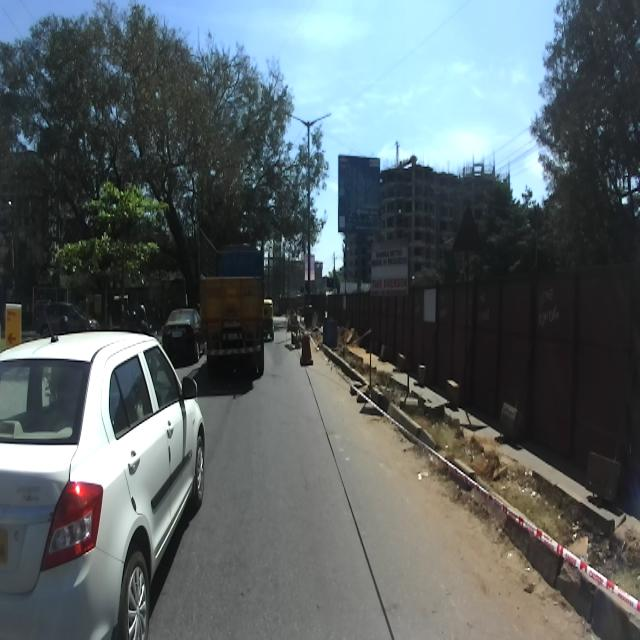car ahead at: (0, 327, 212, 639)
truck ahead at: (190, 237, 269, 384)
